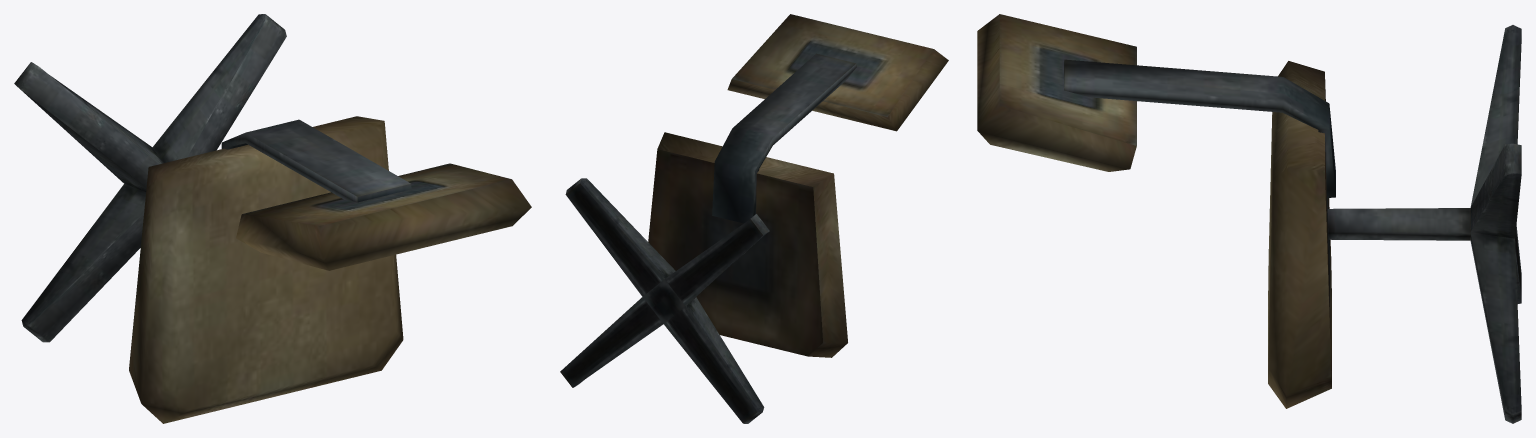
Rendered from furniture_utilitychair1.glb.
The picture shows the model from 3 angles, left to right: view 1: azimuth 30°, elevation 25°; view 2: azimuth 150°, elevation 25°; view 3: azimuth 270°, elevation 25°; orthographic projection. The views are drawn at different scales.
Size of the model in its own units: 21.26 by 22.94 by 37.
1 material, 1 textured.
